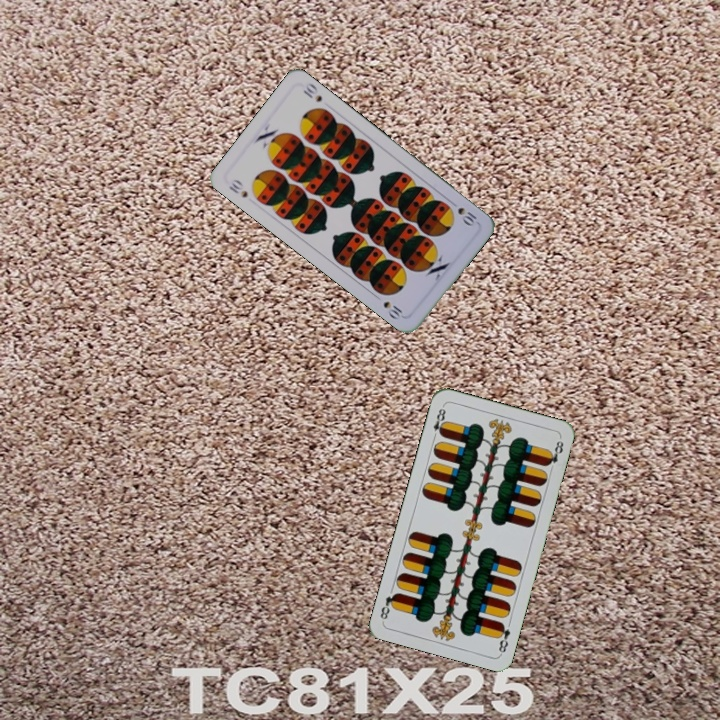E8: (429, 402, 449, 442), (493, 619, 513, 656)
S10: (446, 197, 480, 229), (224, 175, 251, 200)
